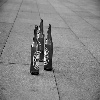beer: (27, 26, 41, 81)
